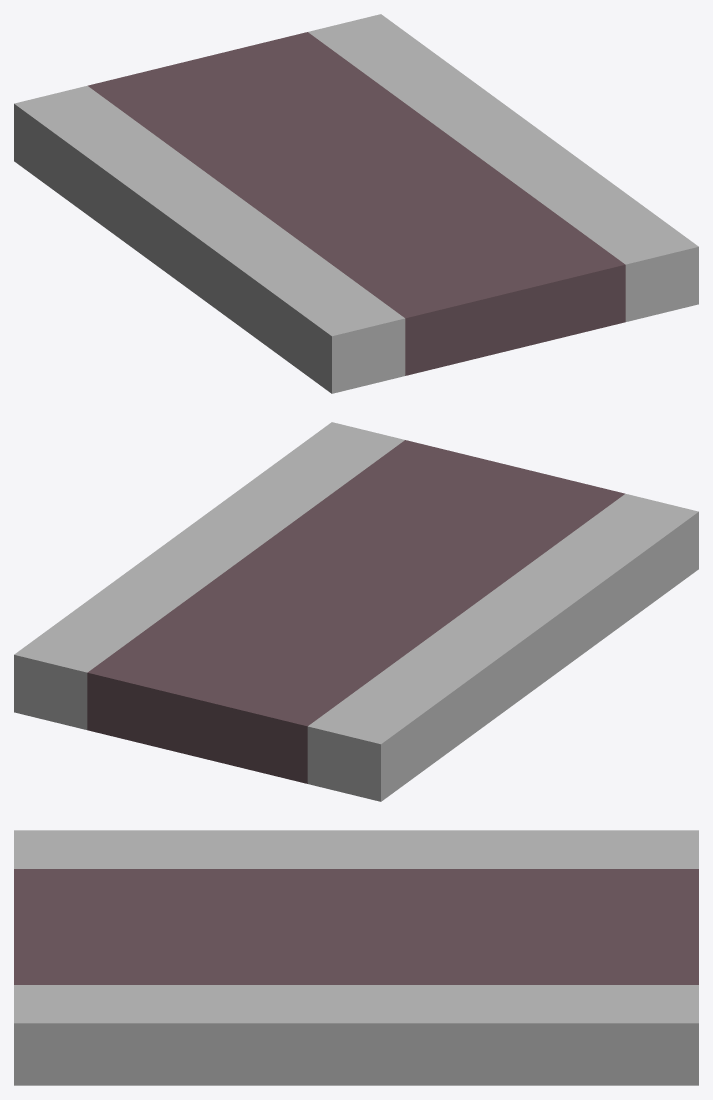
The model's file is roadpart.fbx.
3 renders of one model, top to bottom at view 1: azimuth 30°, elevation 25°; view 2: azimuth 150°, elevation 25°; view 3: azimuth 270°, elevation 25°, orthographic. The views are drawn at different scales.
Parts seen in each view (by area): view 1: RoadPart; view 2: RoadPart; view 3: RoadPart.
Boxes of the visible parts, x1,y1,x2,y2 form: RoadPart: [14, 14, 698, 393]; RoadPart: [14, 422, 698, 801]; RoadPart: [14, 830, 698, 1085].
Bounding box in the file's own units: 200 × 30 × 300.
